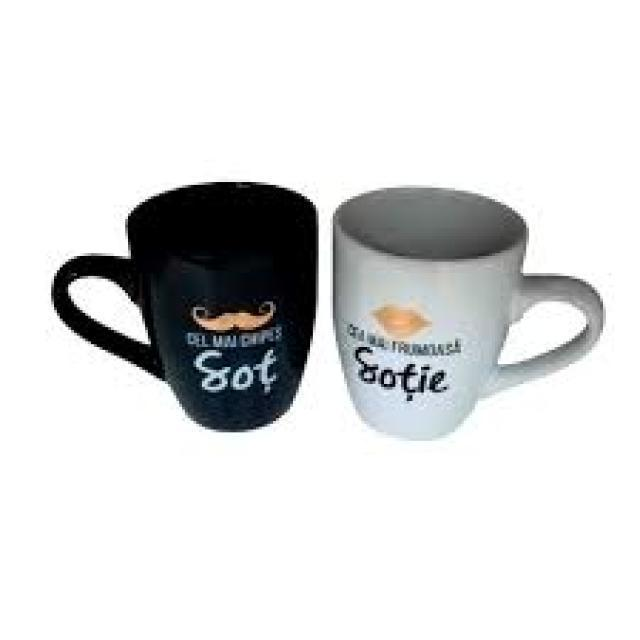taza: (46, 174, 326, 444), (332, 183, 609, 447)
